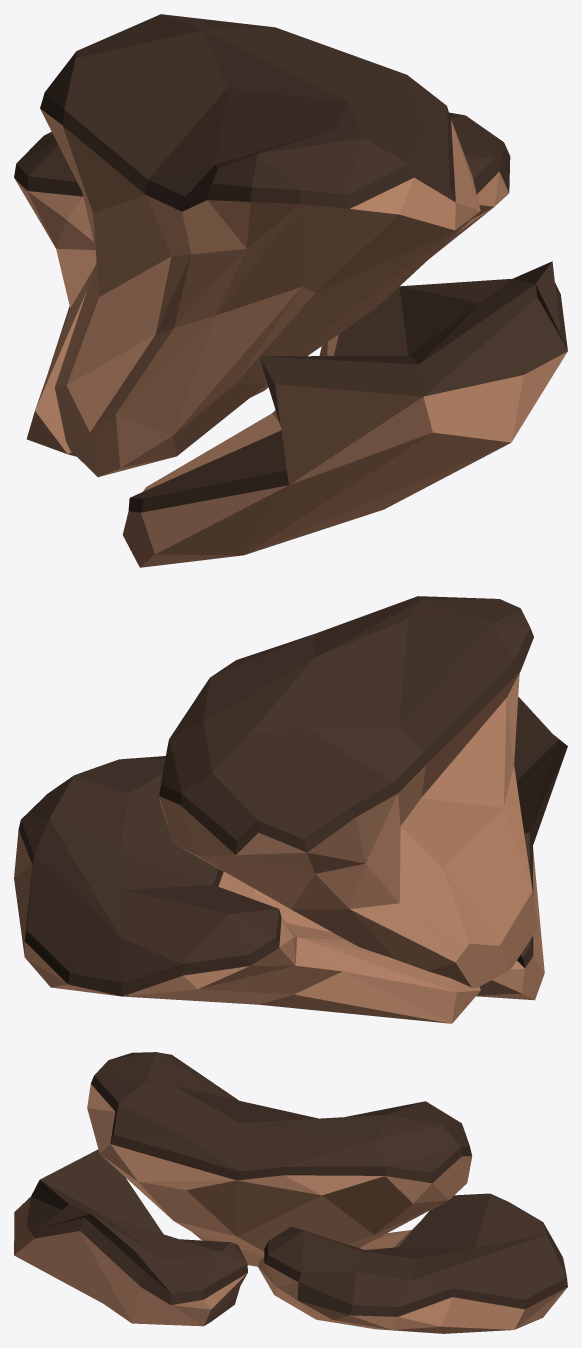
The model's file is Mushroom 4.fbx.
The picture shows the model from 3 angles, top to bottom: view 1: azimuth 30°, elevation 25°; view 2: azimuth 150°, elevation 25°; view 3: azimuth 270°, elevation 25°; orthographic projection. The views are drawn at different scales.
Visible parts, largest first — view 1: Mushroom 4; view 2: Mushroom 4; view 3: Mushroom 4.
Boxes of the visible parts, x1,y1,x2,y2 form: Mushroom 4: [14, 14, 567, 567]; Mushroom 4: [14, 596, 567, 1023]; Mushroom 4: [14, 1052, 567, 1333].
Size of the model in its own units: 0.4067 by 0.3269 by 0.6055.
